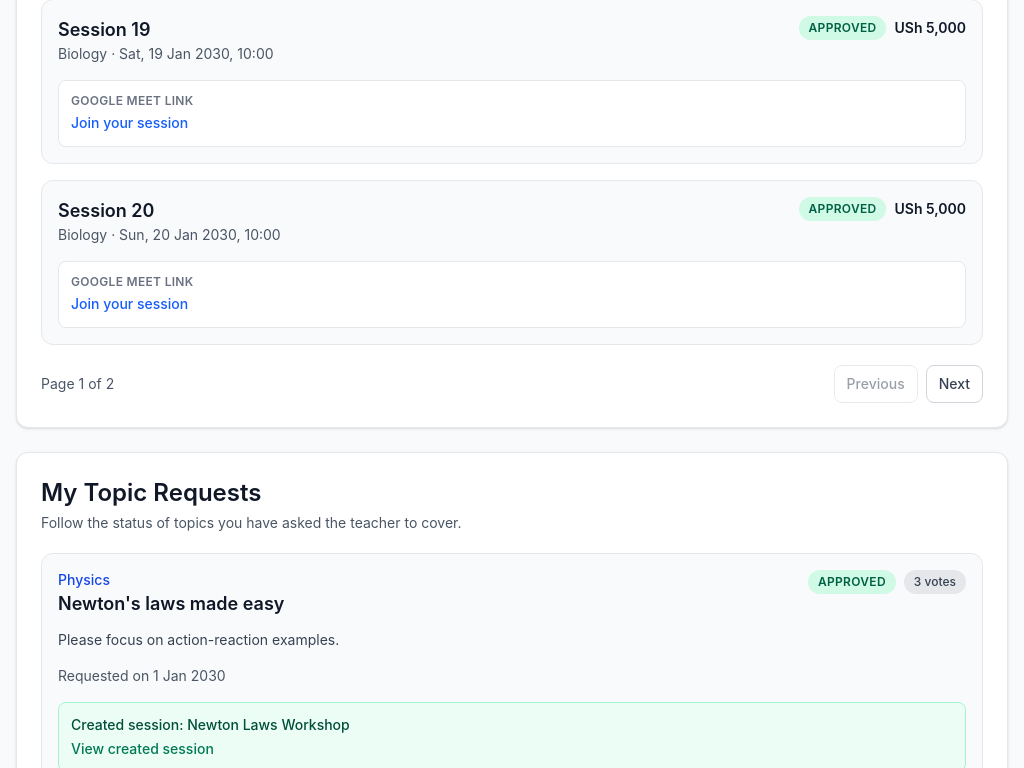
Test: StudentDashboard › paginates enrollments 20 per page
(page scrolled)
Expected: the heading "Session 20" is shown, [58, 200, 154, 221]
Expected: the text "Session 21" is not shown
Step 1. Click the button "Next" → (954, 384), box [926, 365, 983, 403]
(page scrolled)
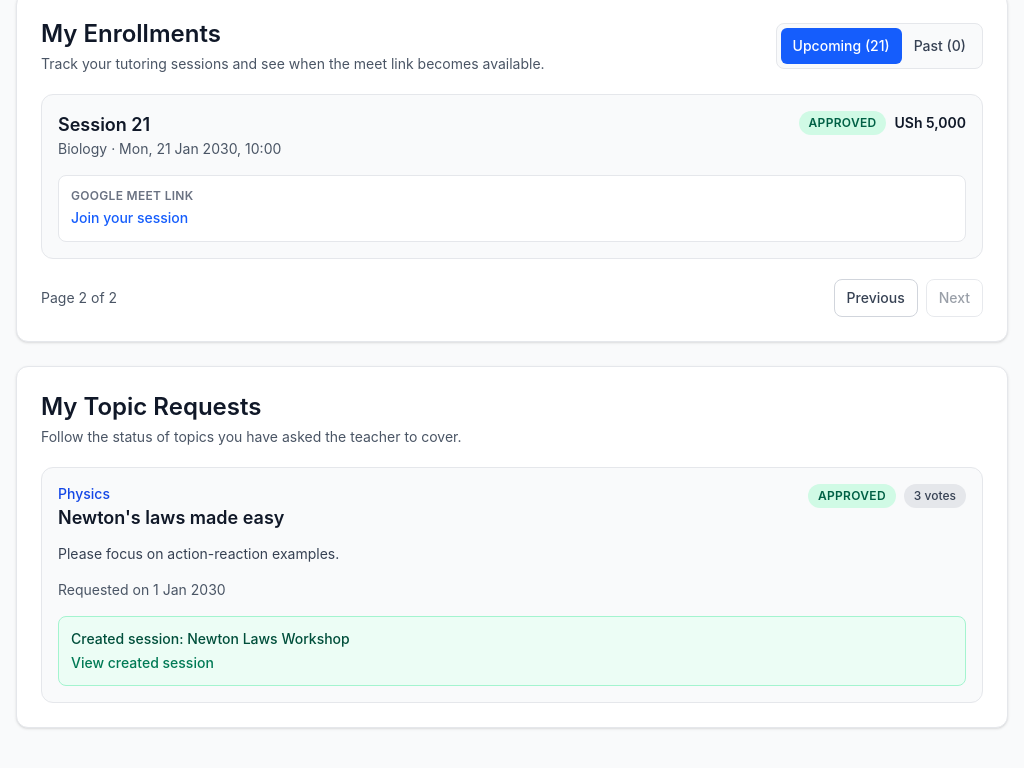
Expected: the heading "Session 21" is shown, [58, 114, 150, 135]
Expected: the heading "Session 1" is gone
